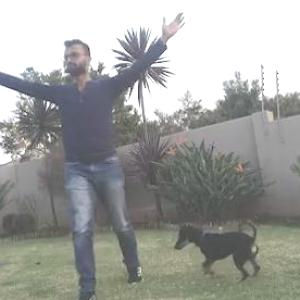takeoff: (1, 3, 174, 298)
